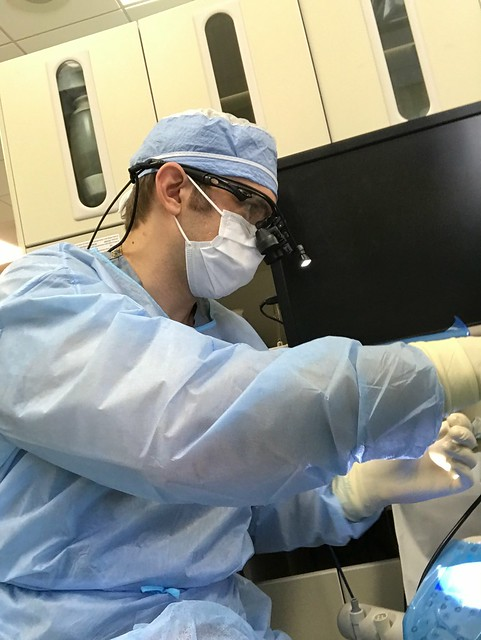mask: (189, 219, 271, 303)
